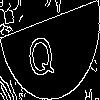Q: (25, 25, 56, 82)
